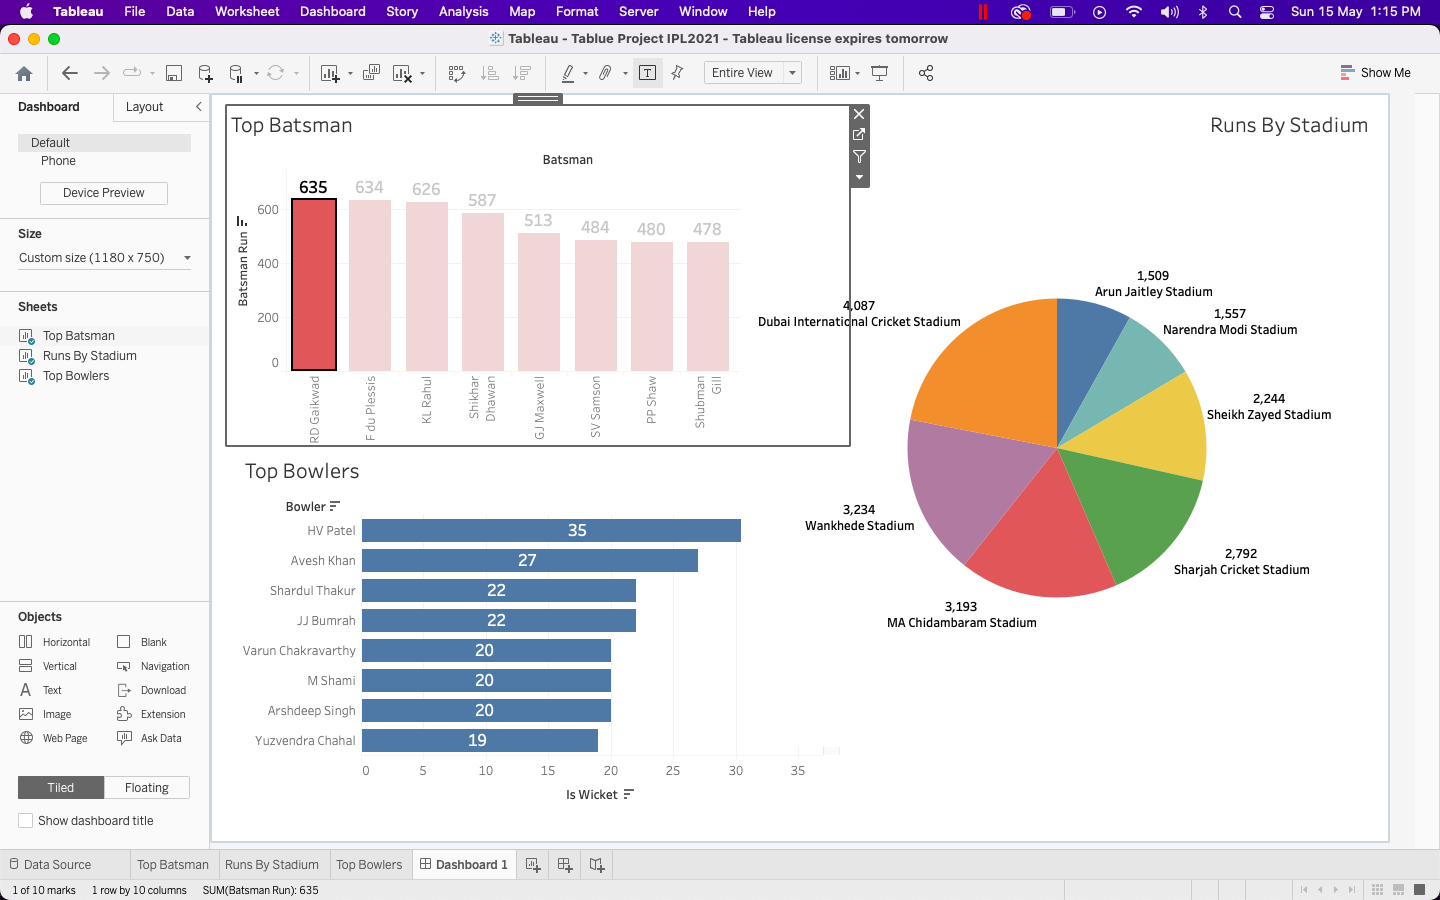

What the dashboard file says about the page in this screenshot:
{"tool":"tableau","page":{"name":"Dashboard 1","canvas":[1180,750],"ordinal":0},"visuals":[{"type":"worksheet","title":"Top Batsman","mark":"Automatic","rows":["batsman_run"],"cols":["batsman"],"box":[17,13,622,339]},{"type":"worksheet","title":"Runs By Stadium","mark":"Pie","box":[531,13,632,641]},{"type":"worksheet","title":"Top Bowlers","mark":"Automatic","rows":["bowler"],"cols":["is_wicket"],"box":[31,359,599,358]}]}

Visuals, with their boxes on the page's 1180x750 design canvas (x1, y1, x2, y2). These are canvas units, not pixel positions in the 1440x900 screenshot, which may show the page scaled, cropped or inside an application window:
"Top Batsman" worksheet: left=17, top=13, right=639, bottom=352
"Runs By Stadium" worksheet (Pie marks): left=531, top=13, right=1163, bottom=654
"Top Bowlers" worksheet: left=31, top=359, right=630, bottom=717
